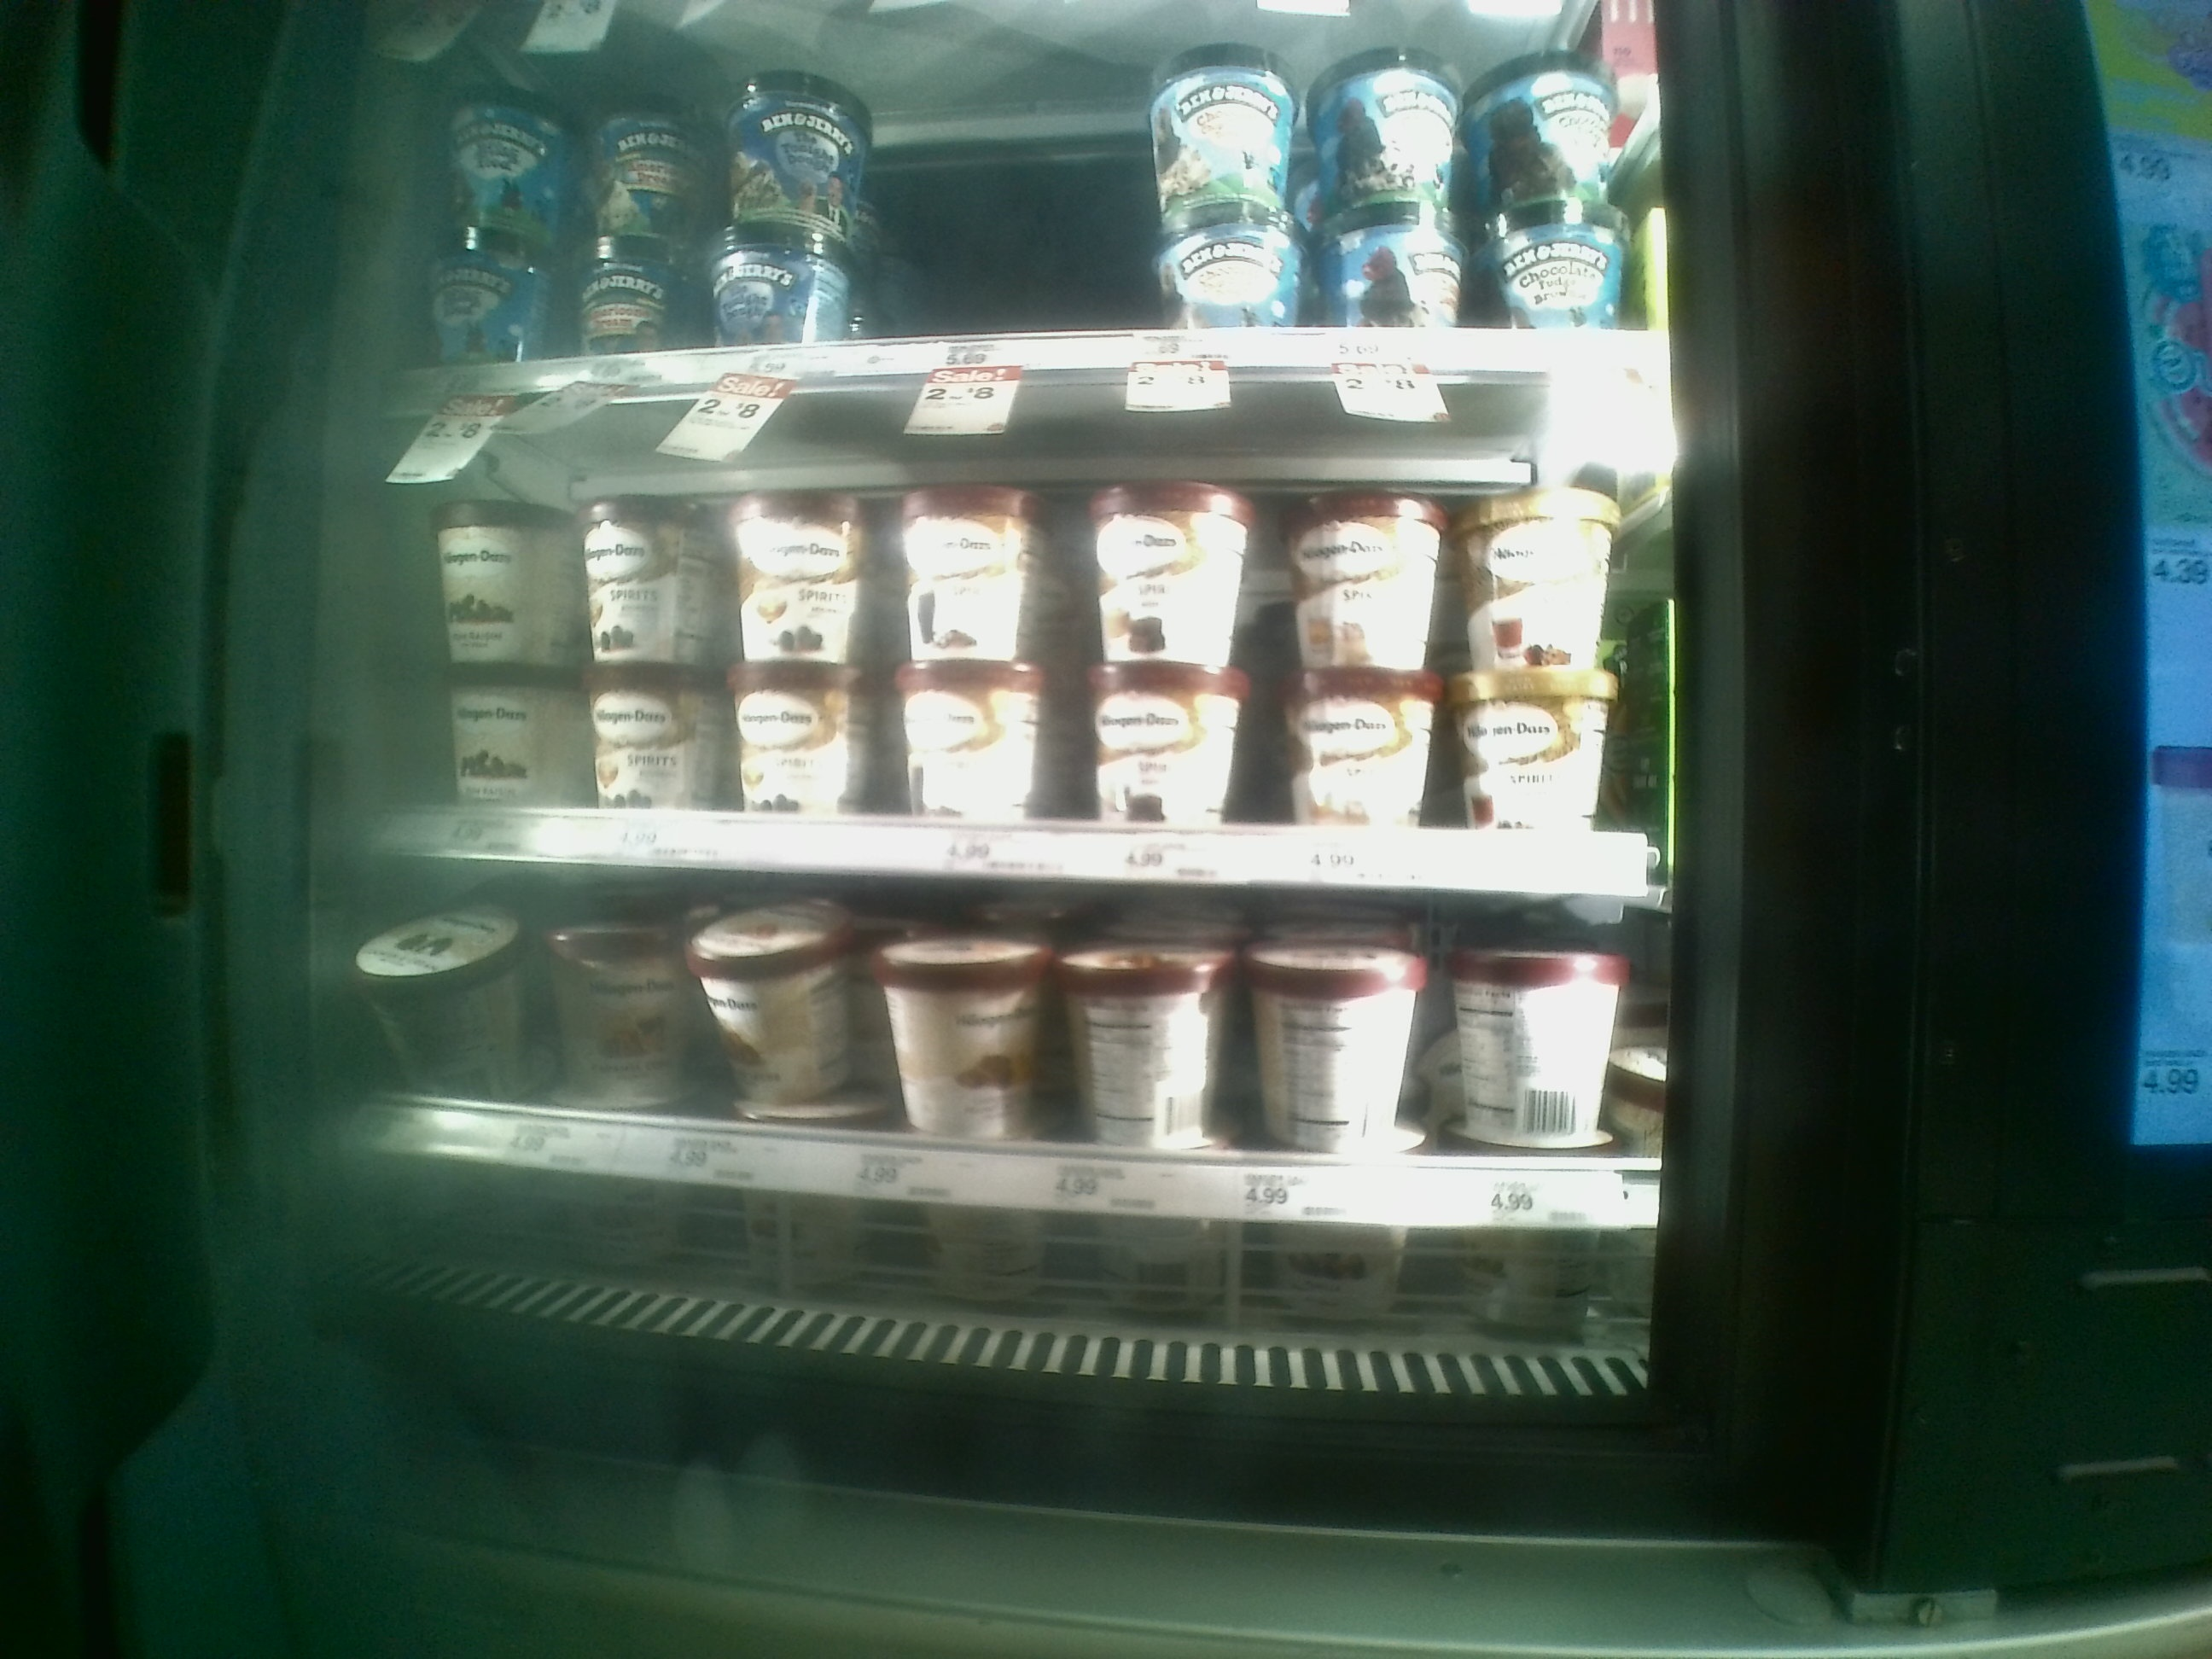shelf: (380, 415, 1674, 892), (383, 852, 1676, 1284), (369, 0, 1681, 397)
